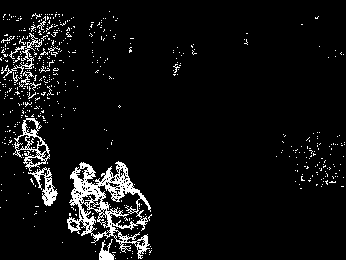person: (98, 159, 151, 260), (66, 161, 114, 260), (13, 116, 58, 207)
